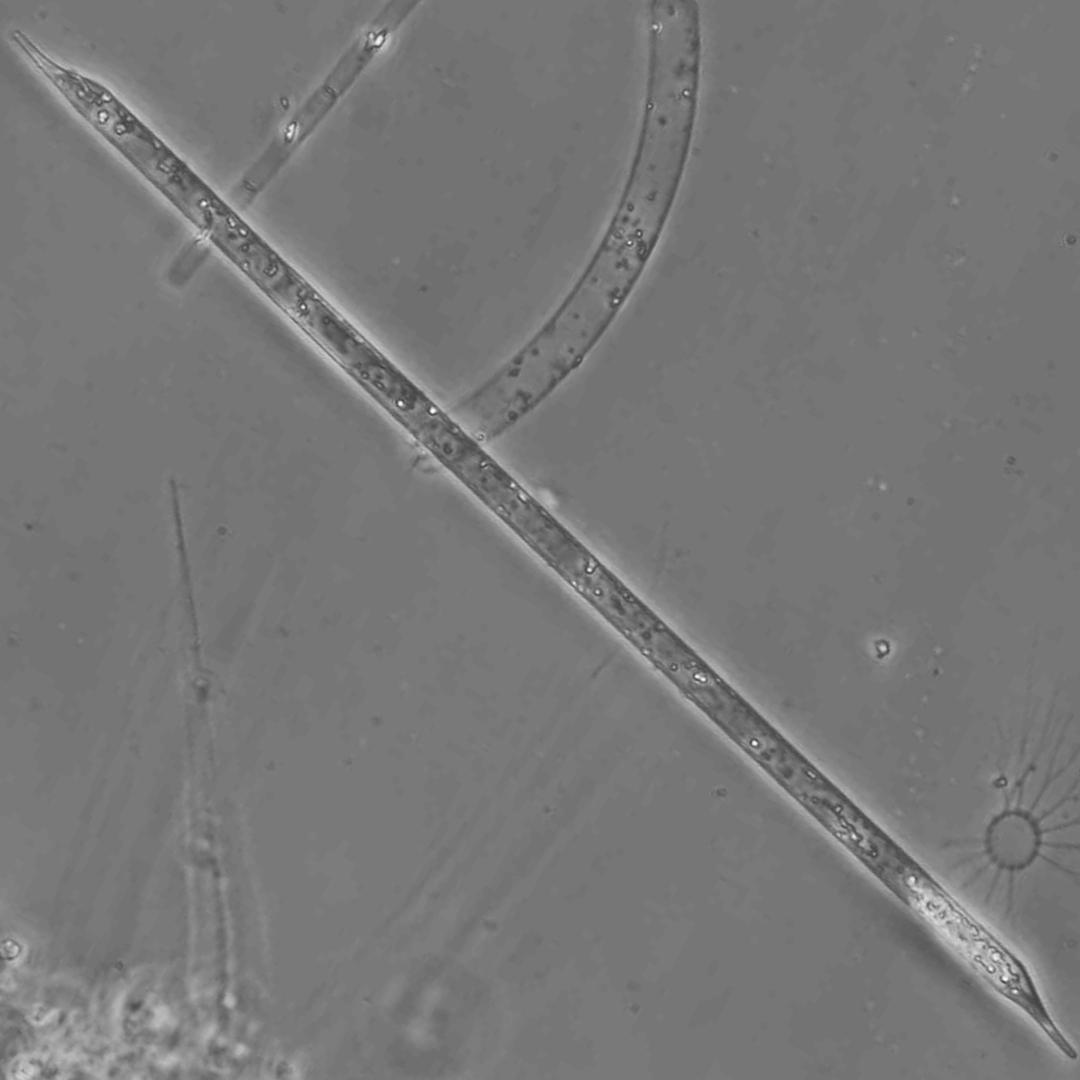proboscia_alata: (12, 32, 1077, 1058)
